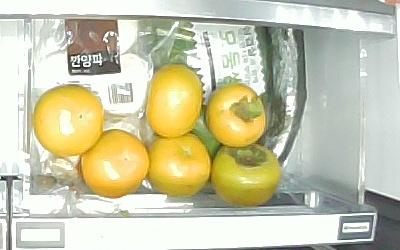persimmon: (34, 84, 103, 158), (80, 130, 149, 199), (210, 143, 282, 208), (148, 64, 201, 137), (148, 135, 210, 197), (207, 84, 266, 147)
